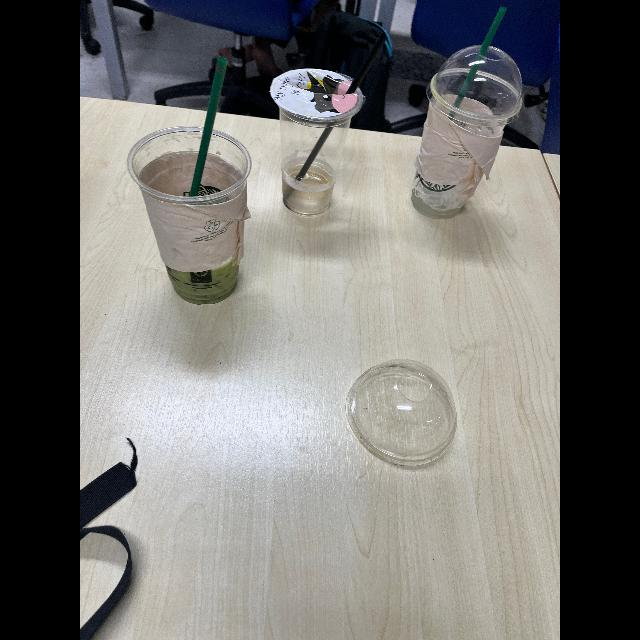plastic_cup: (122, 121, 255, 309), (393, 68, 519, 215), (257, 64, 369, 216)
plastic_cup_lid: (338, 342, 470, 481), (414, 46, 534, 120)
straw: (282, 55, 370, 188), (432, 5, 510, 125), (177, 52, 235, 198)
